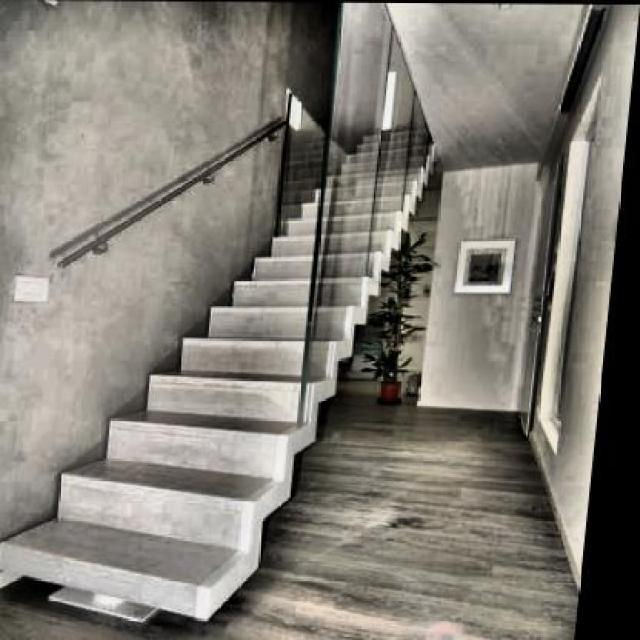stair: (104, 162, 390, 509)
